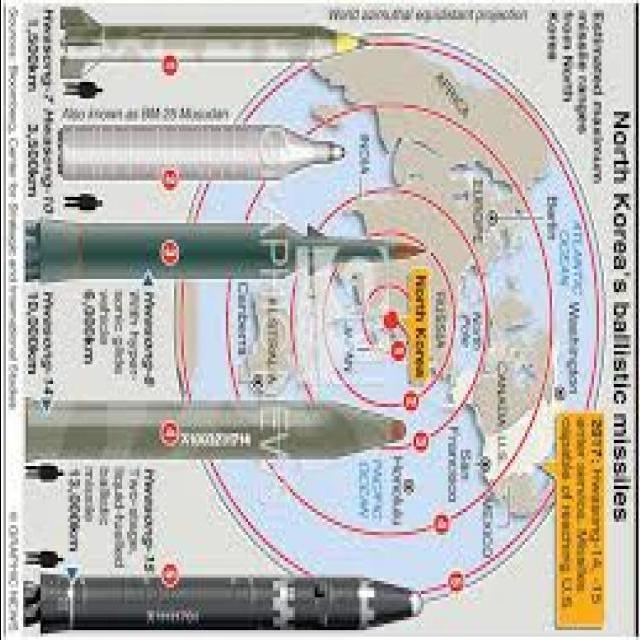Missile: (18, 561, 417, 638), (68, 22, 368, 61)
